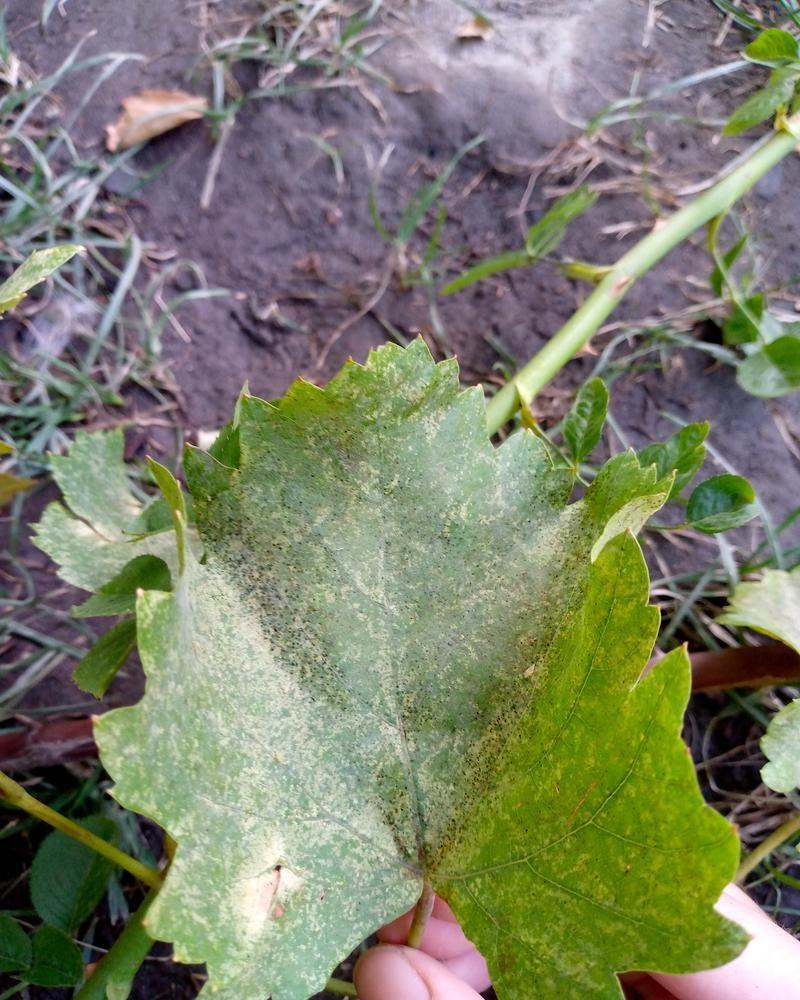Powdery-Mildew: (167, 528, 369, 959), (540, 648, 739, 962), (306, 359, 515, 535), (400, 682, 547, 850), (357, 557, 497, 638), (532, 506, 595, 569), (488, 922, 551, 985)
